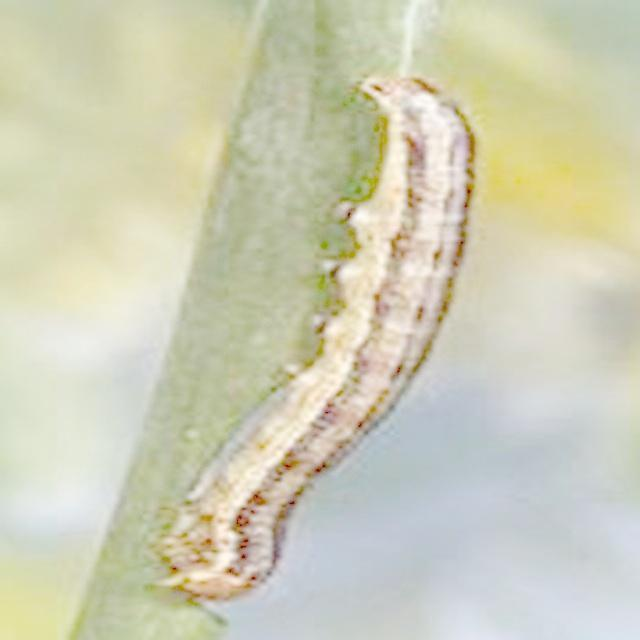worm: (144, 71, 478, 605)
